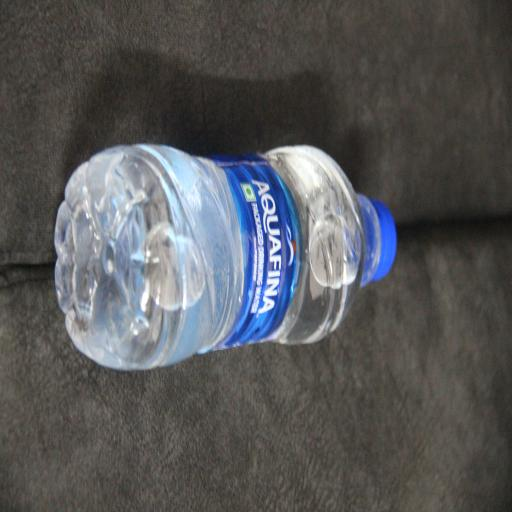Aquafina: (76, 141, 273, 512)
